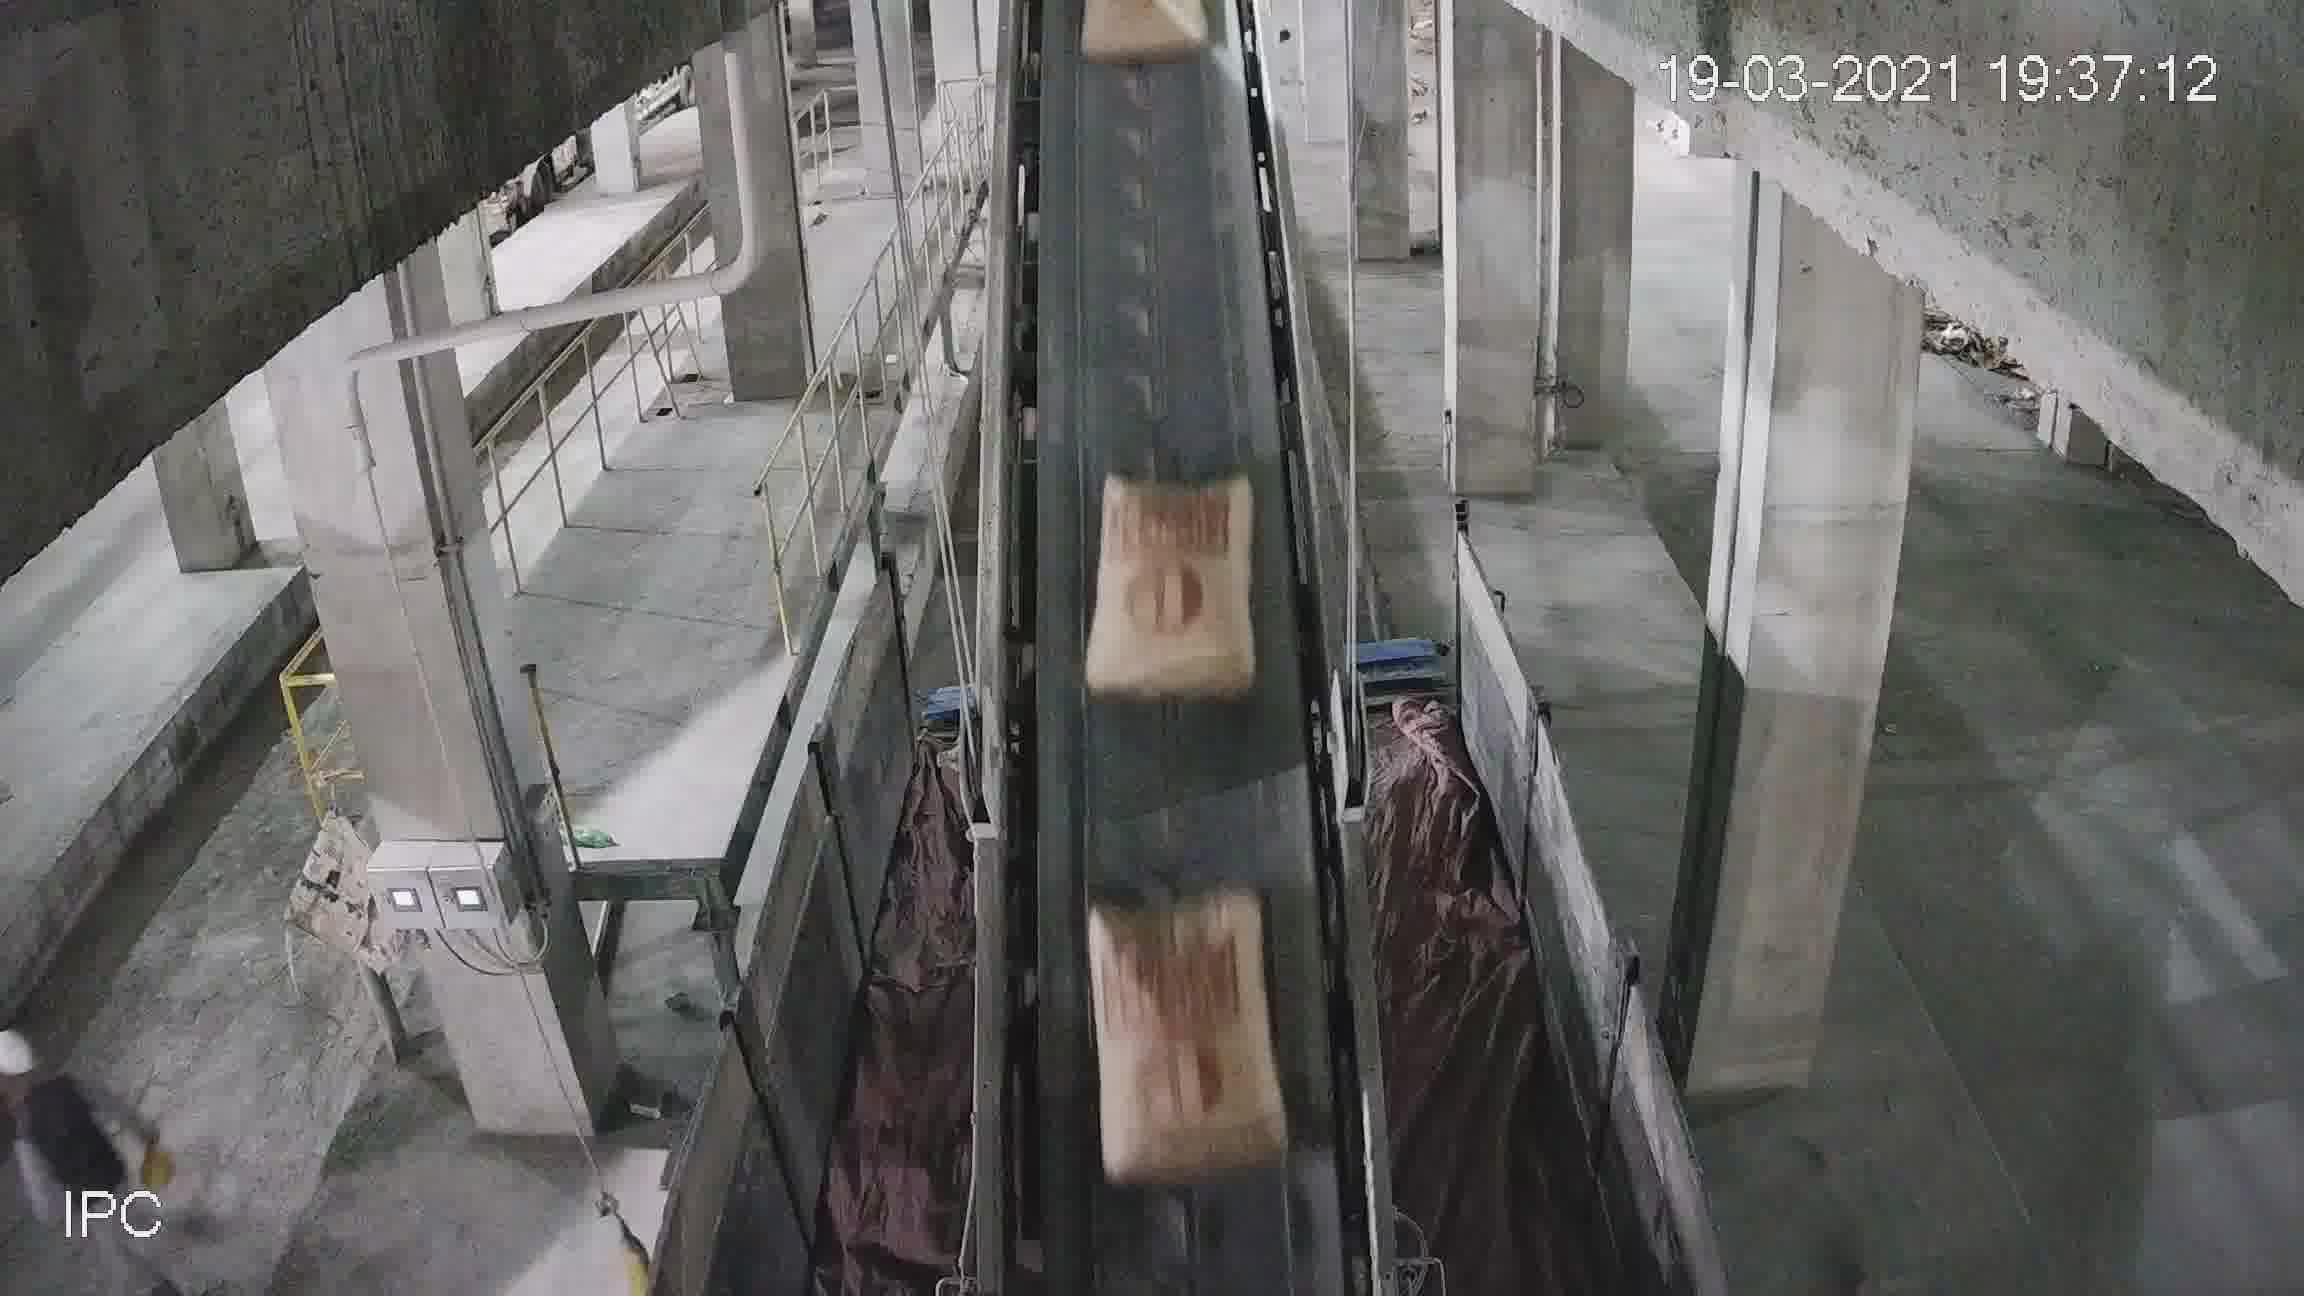bag: (1090, 905, 1275, 1177), (1093, 481, 1263, 699)
belt: (980, 11, 1366, 1116)
